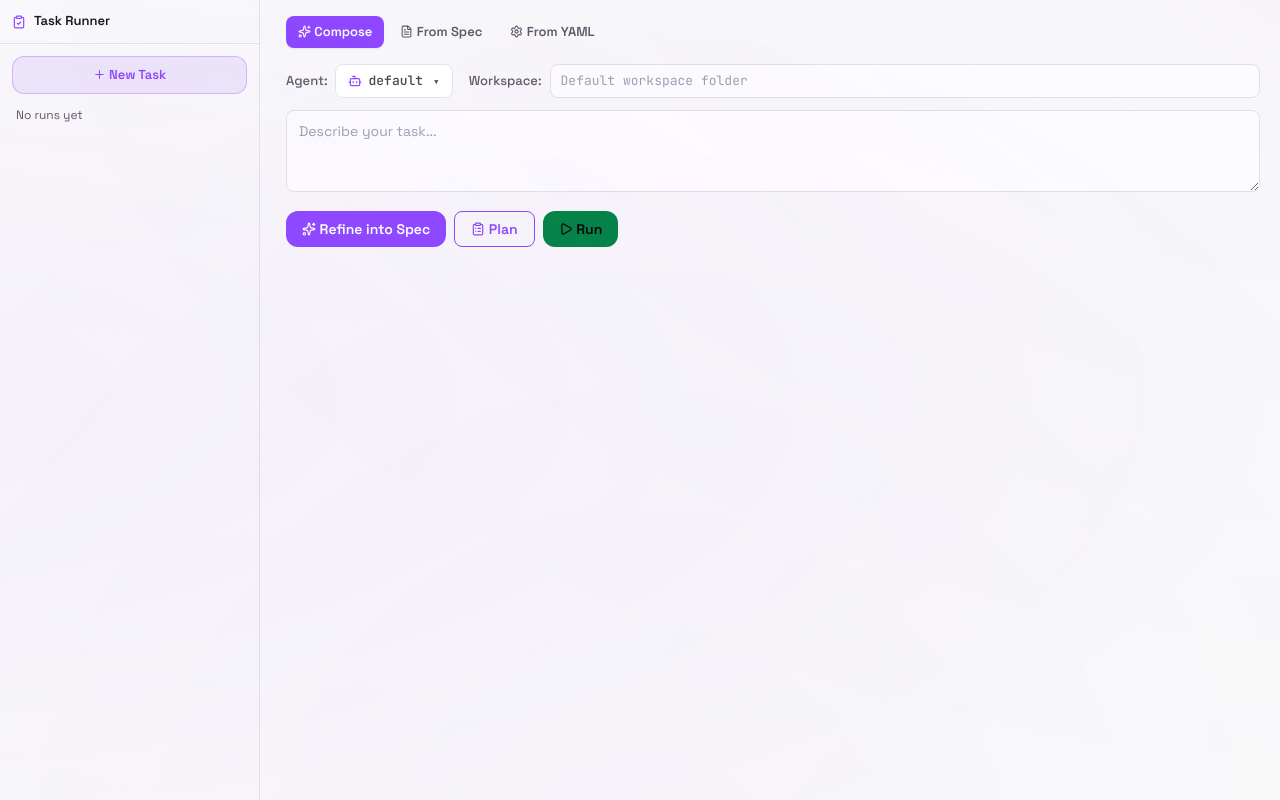
it: ProjectsPage › switches to From Spec mode with file upload
Click the button "From Spec" at x=441, y=32, box [388, 16, 494, 48]
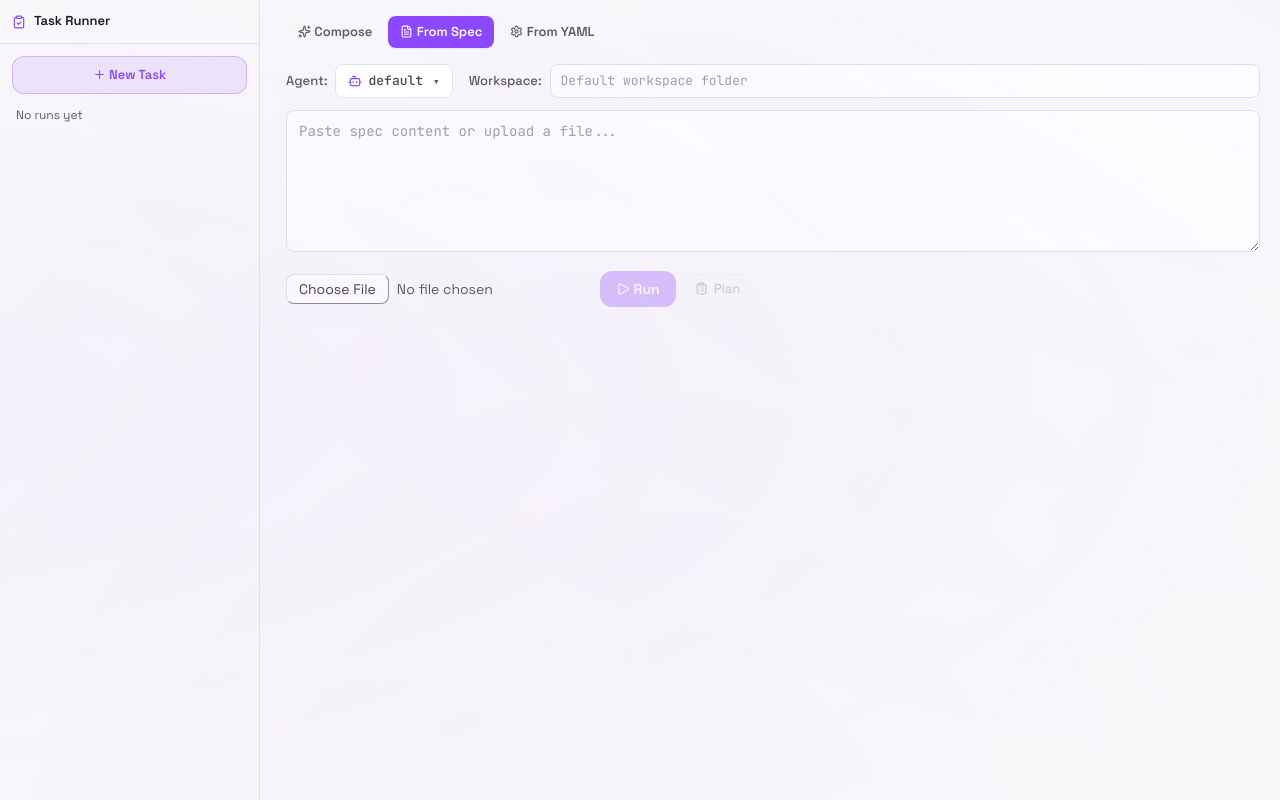
Now the text box with placeholder "Paste spec content or upload a file..." is shown, box [286, 110, 1260, 252]
